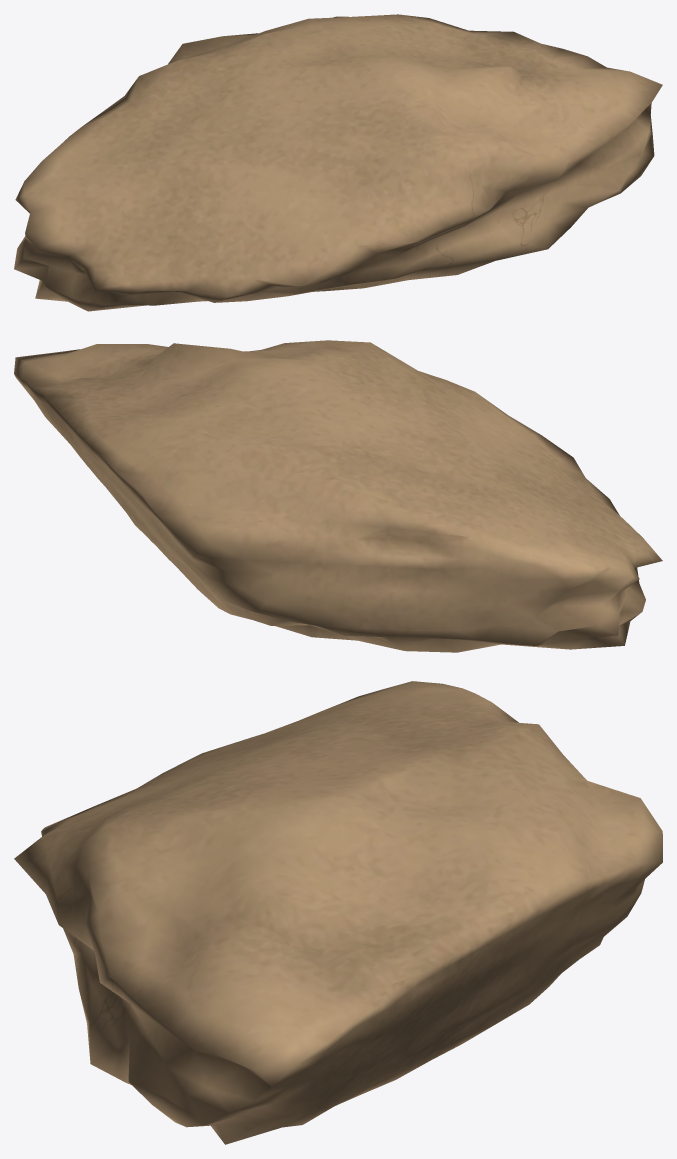
Rendered from slab-sandstone.glb.
3 renders of one model, top to bottom at view 1: azimuth 30°, elevation 25°; view 2: azimuth 150°, elevation 25°; view 3: azimuth 270°, elevation 25°, orthographic. The views are drawn at different scales.
Parts seen in each view (by area): view 1: stone; view 2: stone; view 3: stone.
Boxes of the visible parts, x1,y1,x2,y2 form: stone: (14, 14, 662, 311); stone: (14, 340, 662, 652); stone: (14, 681, 662, 1144).
Size of the model in its own units: 1.59 by 0.4099 by 1.05.
1 material, 1 textured.
